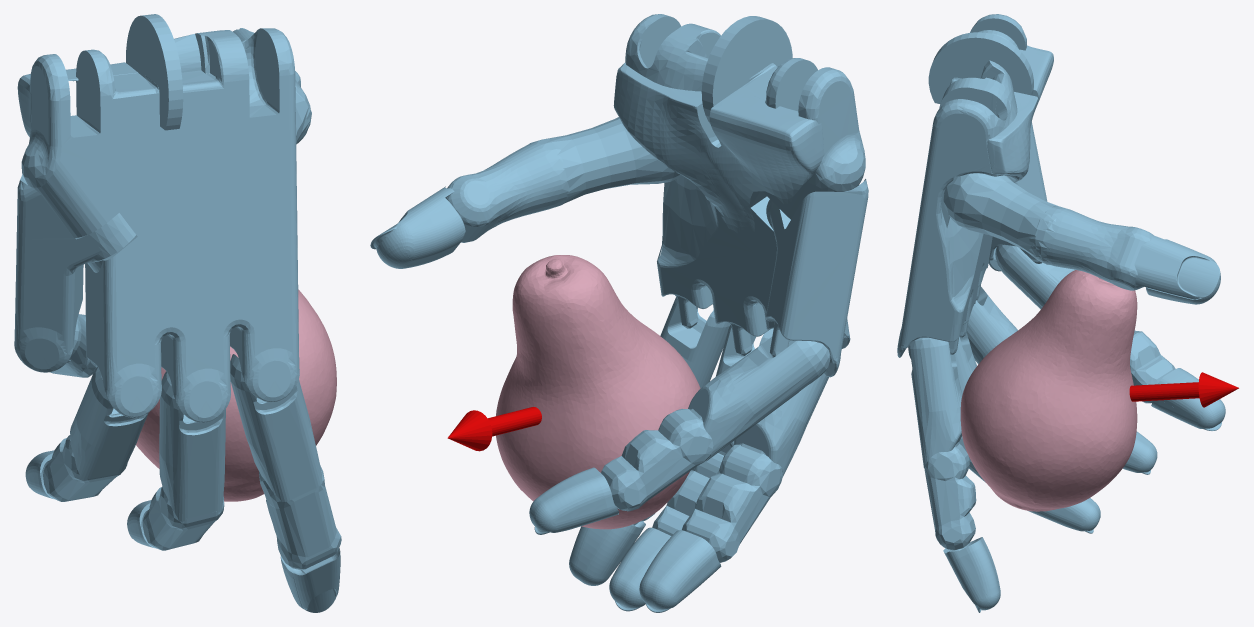
3 views of the same model, side by side, from view 1: azimuth 30°, elevation 25°; view 2: azimuth 150°, elevation 25°; view 3: azimuth 270°, elevation 25° (orthographic). The views are drawn at different scales.
Visible parts, largest first — view 1: world, pear.stl; view 2: world, pear.stl; view 3: world, pear.stl.
Part boxes in pixels (box(x1,y1,x2,y2)): world: box(14, 14, 341, 612); pear.stl: box(136, 289, 336, 501); world: box(370, 14, 868, 612); pear.stl: box(496, 255, 700, 529); world: box(897, 14, 1238, 612); pear.stl: box(960, 270, 1137, 511).
Bounding box in the file's own units: 0.1342 × 0.2101 × 0.1271.
